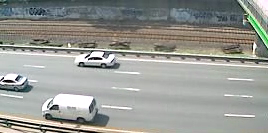car: (39, 92, 101, 127), (70, 49, 118, 70), (1, 71, 32, 92)
